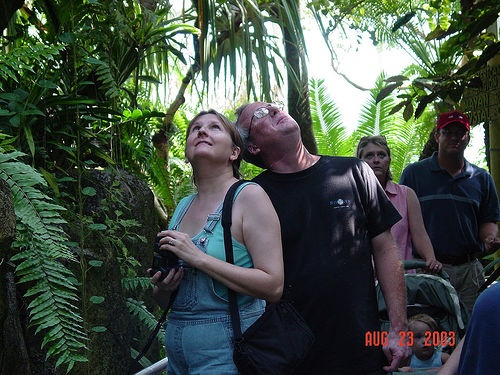head: (232, 98, 302, 165), (183, 112, 245, 168), (433, 110, 475, 168), (358, 131, 395, 186)
person: (233, 103, 411, 373), (152, 104, 277, 375), (400, 111, 497, 308), (358, 135, 439, 275)
